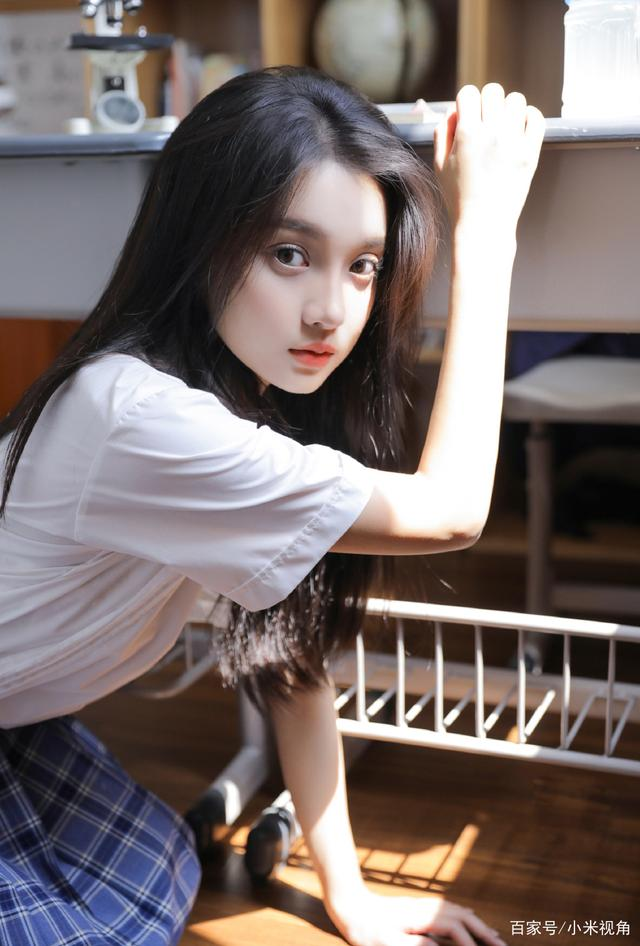person: (70, 76, 510, 684)
